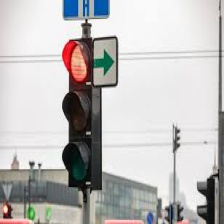semaforo: (58, 34, 97, 191)
